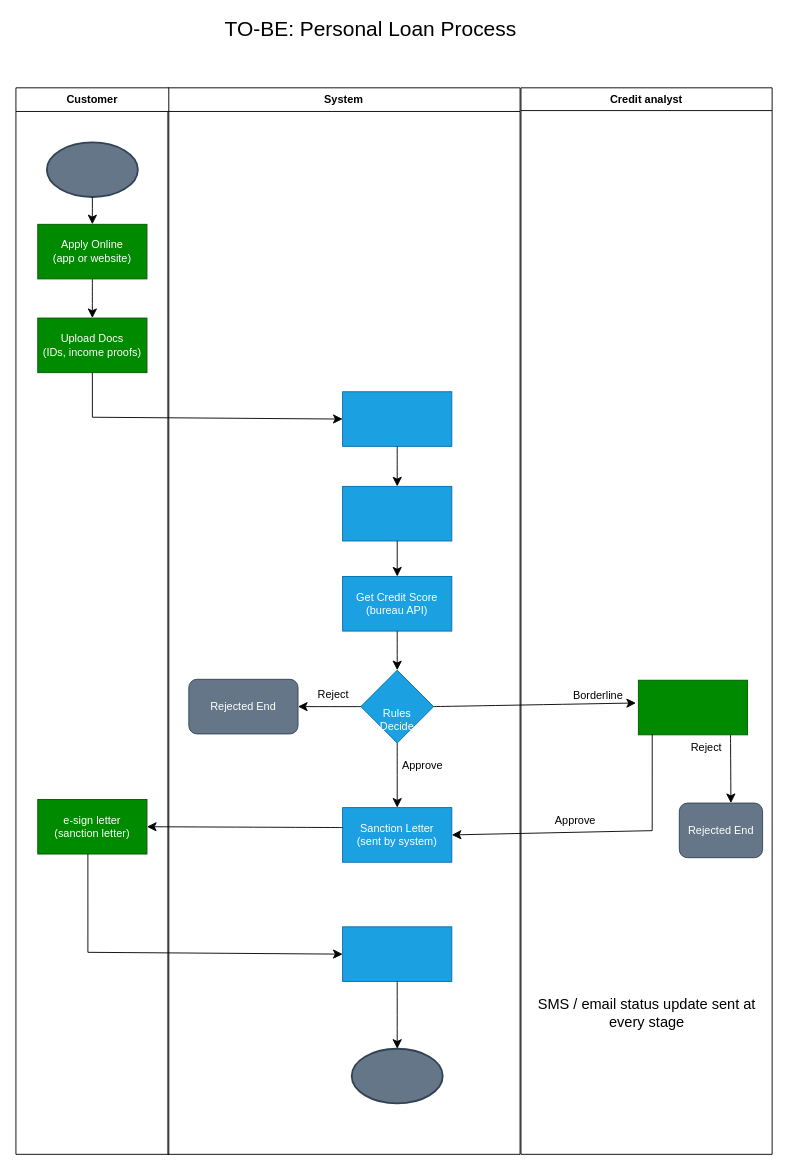
Some shapes in this 788 by 1170 pixel diagram are drawn without their labels. The centre of each missing label's shape, as x and y in pixels:
Disburse Loan (to customer's loan account): point 397,953
e-KYC Checks (Aadhar based): point 397,513
END: point 396,1075
Review Case (manual check): point 692,707
Start: point 92,169
Validate docs (auto-read OCR): point 397,418
